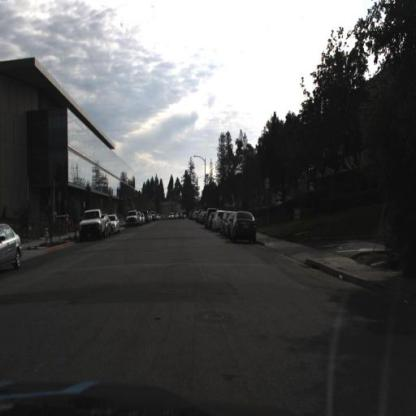car: (1, 221, 25, 276), (78, 205, 106, 242), (231, 210, 258, 246), (232, 211, 258, 243), (105, 214, 121, 235), (104, 215, 116, 241), (125, 209, 141, 228)
